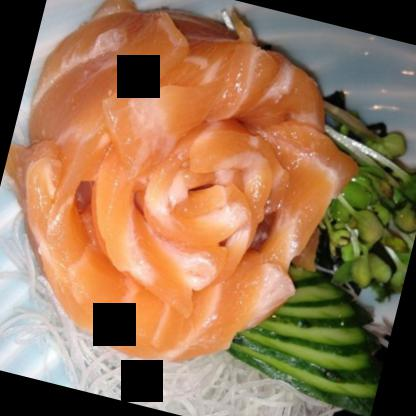salmon: (0, 0, 372, 407)
